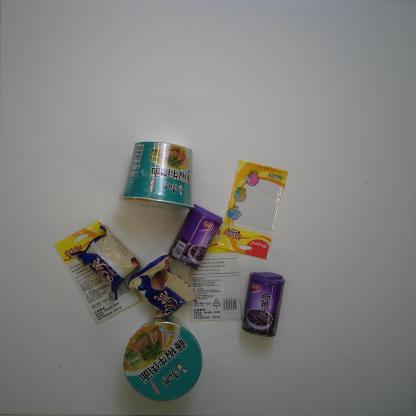Canned Food: (167, 203, 224, 271), (241, 272, 285, 338)
Dessert: (69, 224, 144, 302), (127, 254, 198, 319)
Instant Noodles: (123, 321, 203, 401), (118, 141, 195, 210)
Stationery: (53, 219, 142, 325), (216, 159, 289, 260), (190, 228, 244, 322)
